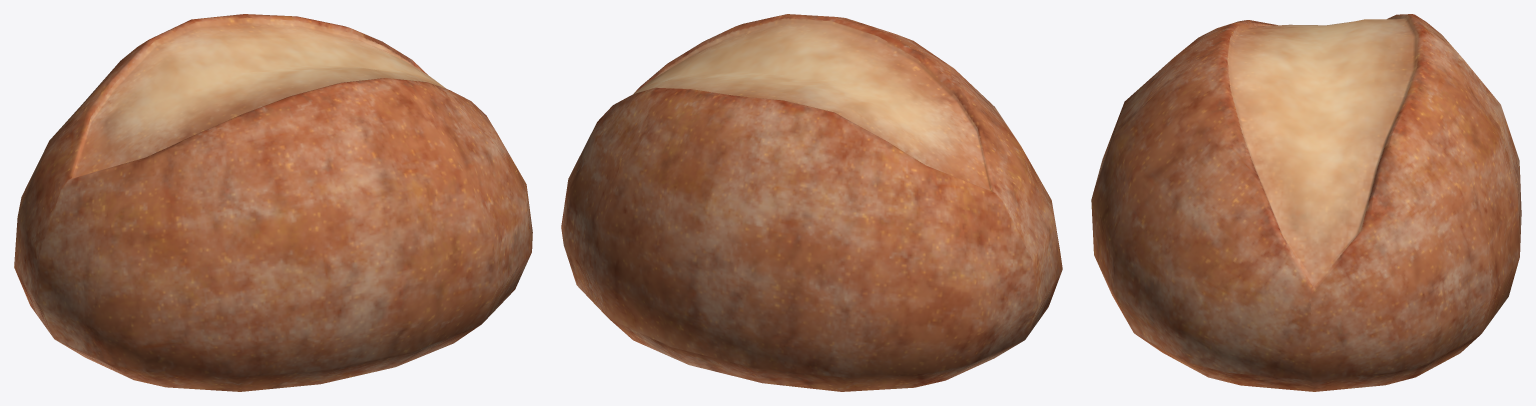
File: Bread_B.fbx
3 renders of one model, left to right at view 1: azimuth 30°, elevation 25°; view 2: azimuth 150°, elevation 25°; view 3: azimuth 270°, elevation 25°, orthographic.
Visible parts, largest first — view 1: Bread_B; view 2: Bread_B; view 3: Bread_B.
Part boxes in pixels (x1,y1,x2,y2): Bread_B: [14, 14, 532, 391]; Bread_B: [561, 14, 1062, 391]; Bread_B: [1091, 14, 1521, 391].
Bounding box in the file's own units: 0.2126 × 0.1201 × 0.1737.
